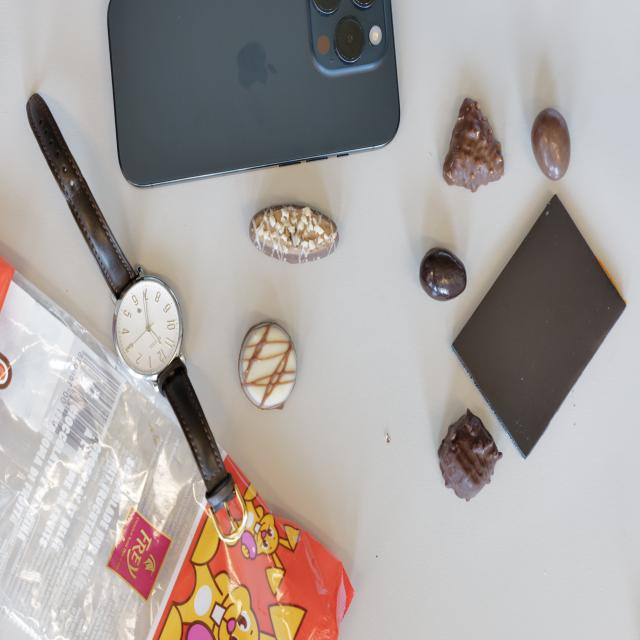Amandina: (250, 204, 339, 264)
Creme_brulee: (238, 321, 297, 412)
Jelly_Black: (419, 245, 467, 300)
Jelly_Milk: (532, 107, 571, 182)
Tentation_noir: (437, 409, 503, 502)
Triangolo: (442, 98, 506, 194)
